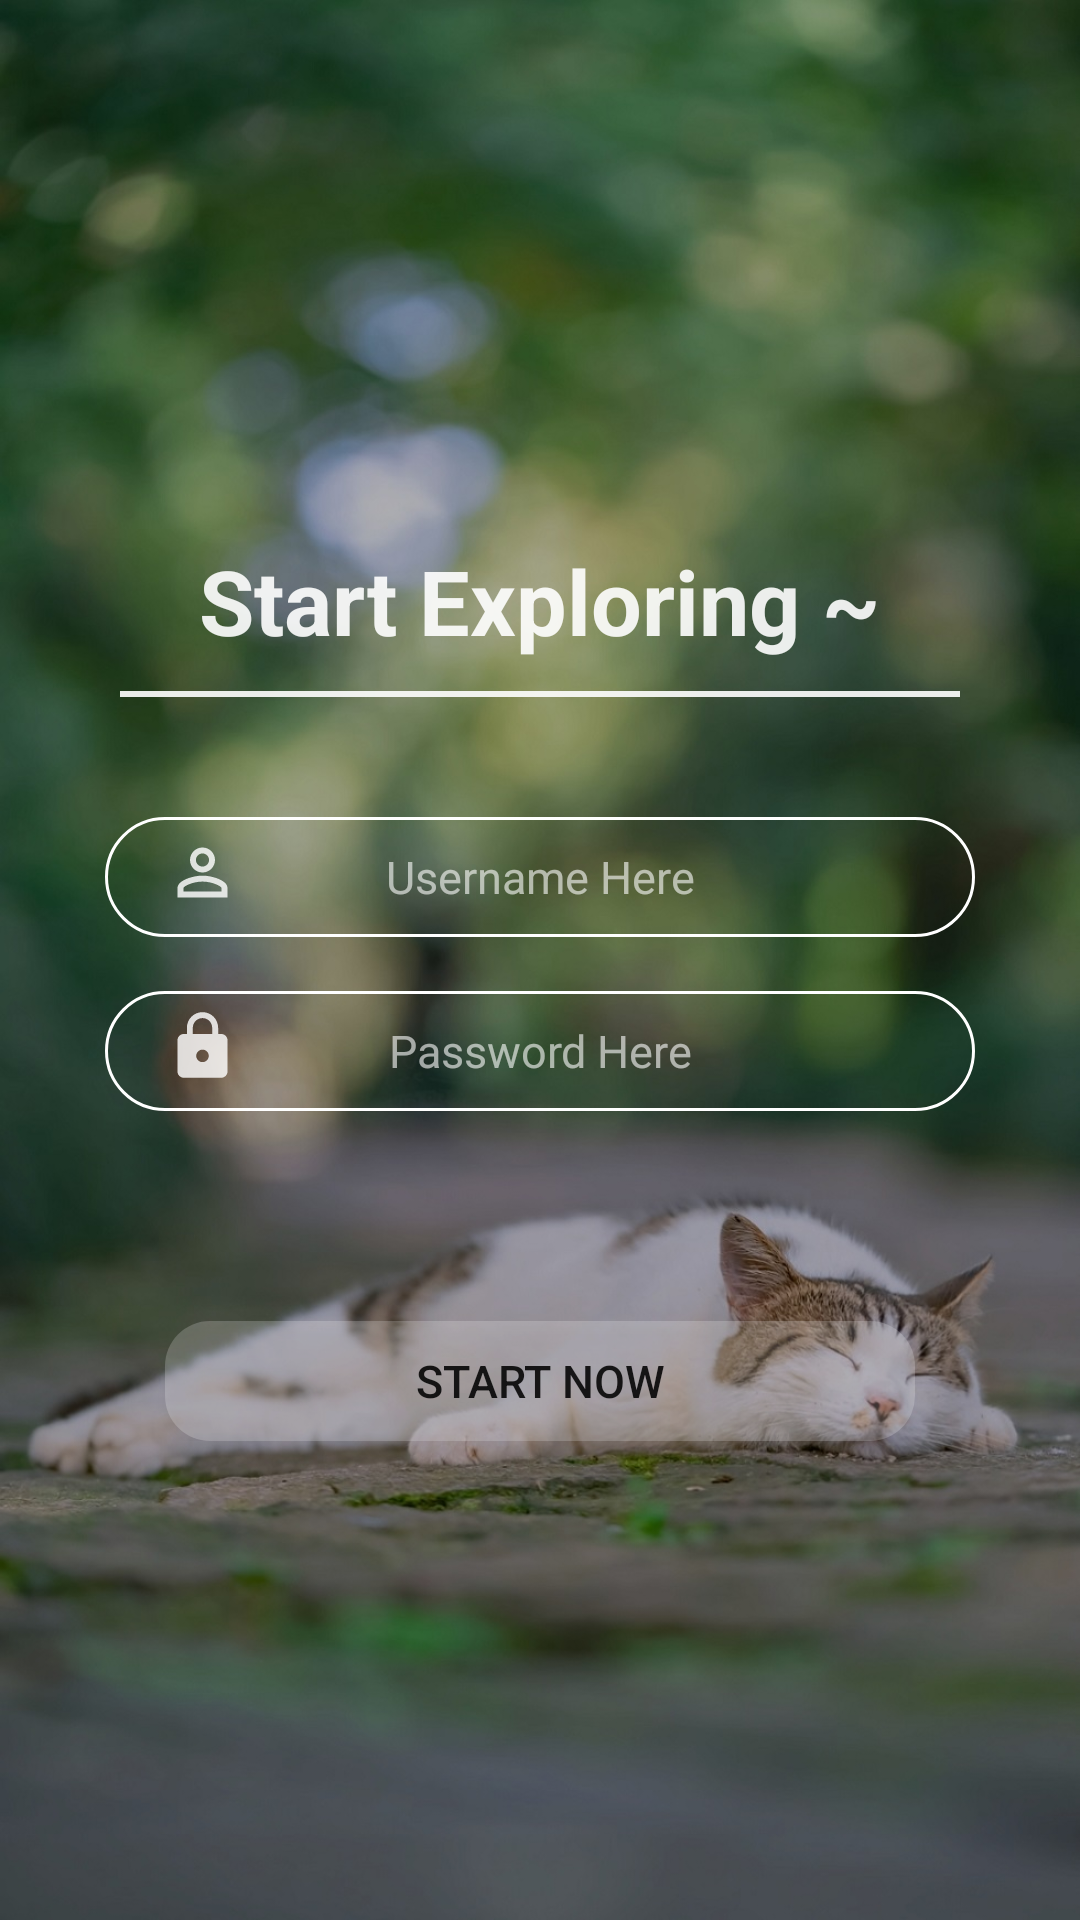

Named icons in this screenshot (1080 x 1920) and their centers, (x,y):
lock: (202,1046)
person: (202,872)
